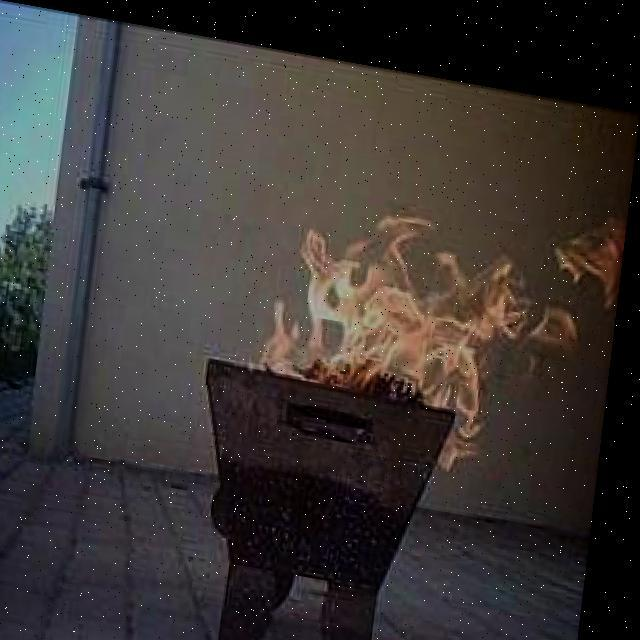Fire: (234, 80, 624, 453)
